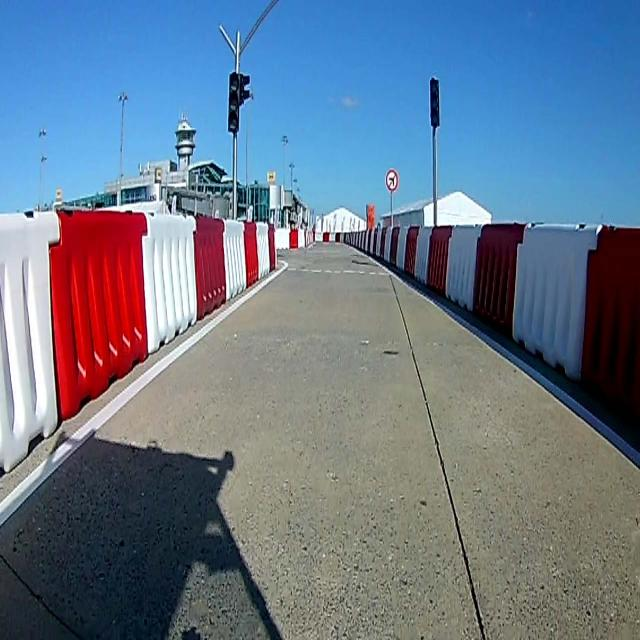soladonulmez: (386, 168, 398, 192)
